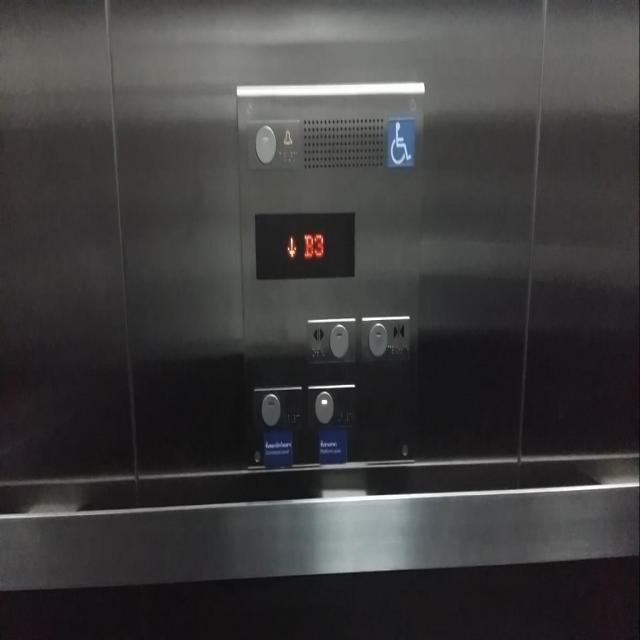CH: (386, 117, 414, 168)
alarm: (246, 116, 300, 172)
blur: (252, 384, 306, 434), (306, 382, 356, 431)
close: (360, 314, 411, 364)
led: (253, 208, 356, 281)
open: (304, 316, 356, 365)
